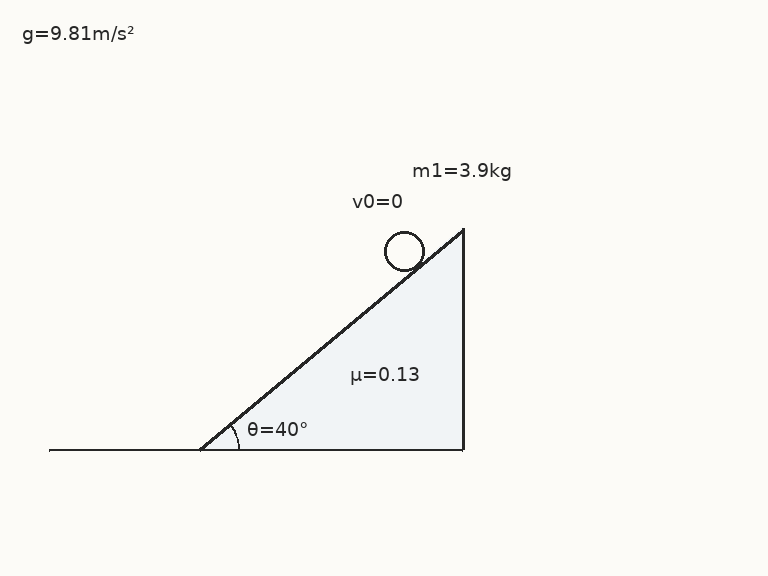ball: (382, 229, 426, 273)
ramp: (197, 226, 465, 451)
